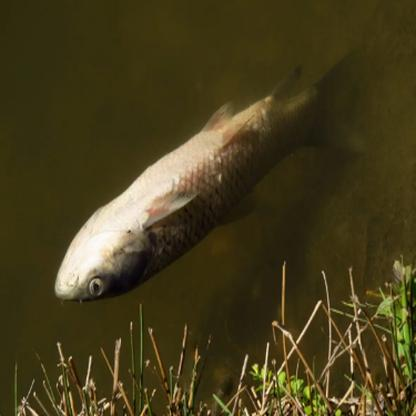deceased fish: (40, 41, 388, 304)
